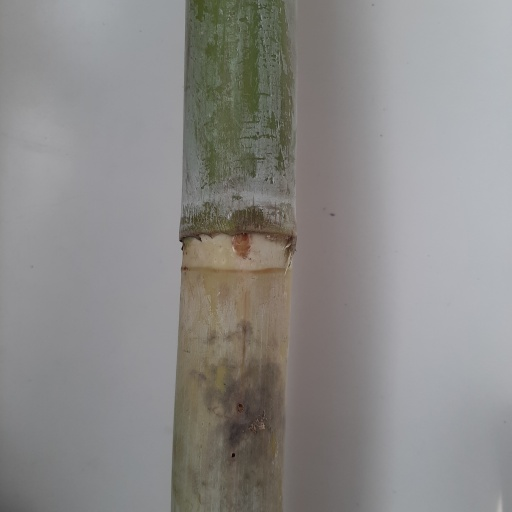Damage_Bud: (229, 235, 253, 262)
